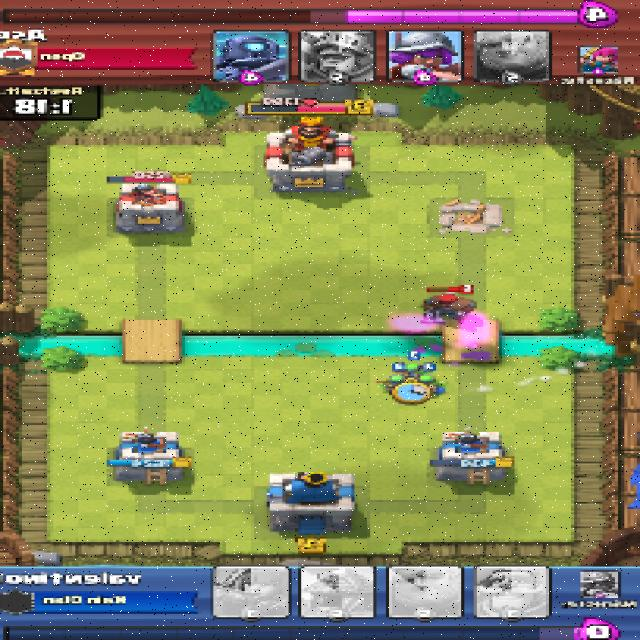Enemy-Hunter: (418, 294, 478, 324)
Player-SpearGoblin: (379, 375, 408, 394), (417, 376, 440, 394), (403, 360, 426, 377)
